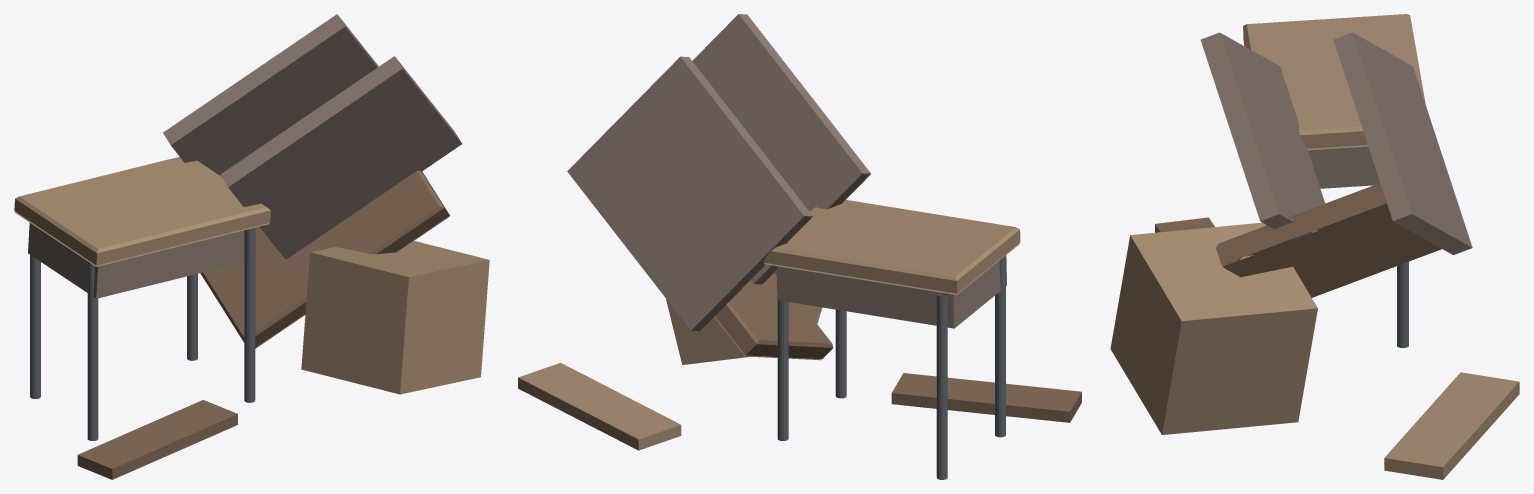
Rendered from sf_broken_desk_barricade.glb.
3 renders of one model, left to right at view 1: azimuth 30°, elevation 25°; view 2: azimuth 150°, elevation 25°; view 3: azimuth 270°, elevation 25°, orthographic. The views are drawn at different scales.
Parts seen in each view (by area): view 1: BrokenDeskBarricadePure3D_Root; view 2: BrokenDeskBarricadePure3D_Root; view 3: BrokenDeskBarricadePure3D_Root.
Part boxes in pixels (<box>): BrokenDeskBarricadePure3D_Root: <box>14,14,489,479</box>; BrokenDeskBarricadePure3D_Root: <box>518,14,1081,479</box>; BrokenDeskBarricadePure3D_Root: <box>1110,14,1519,479</box>.
Size of the model in its own units: 1.69 by 1.21 by 1.17.
